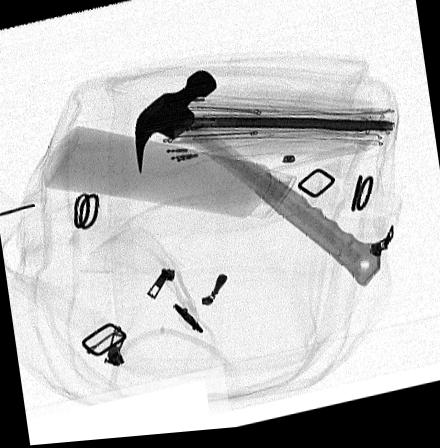Hammer: (133, 71, 381, 294)
